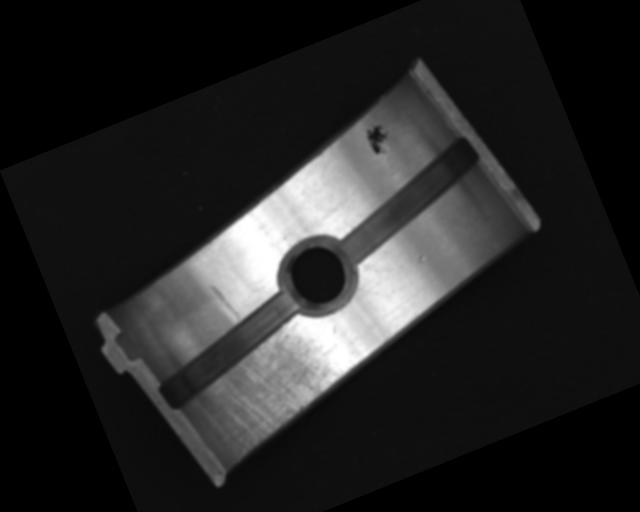blot: (360, 115, 397, 158)
bruise: (414, 253, 429, 265)
gap: (314, 132, 499, 270), (141, 286, 317, 413)
hole: (270, 230, 367, 325)
nick: (207, 278, 243, 329), (353, 277, 389, 309)
scratch: (180, 309, 365, 471)
